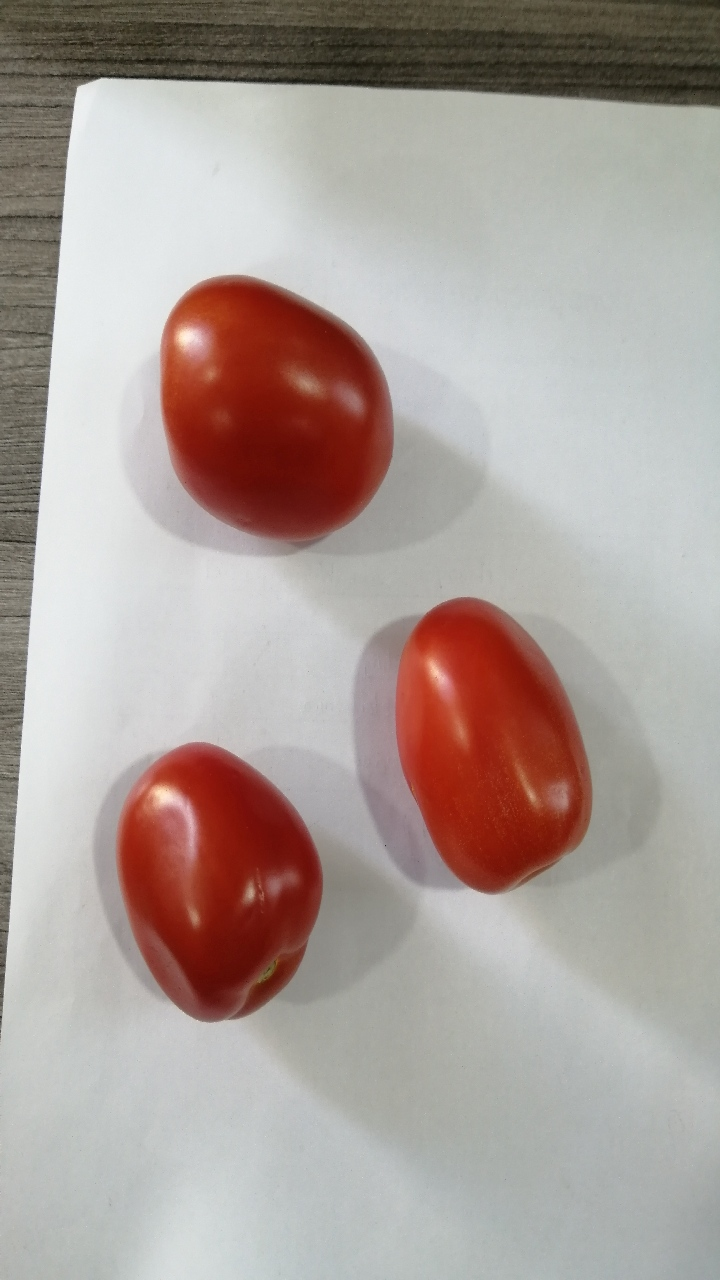tomateRojo: (374, 572, 623, 911), (135, 251, 406, 560), (88, 712, 334, 1051)
